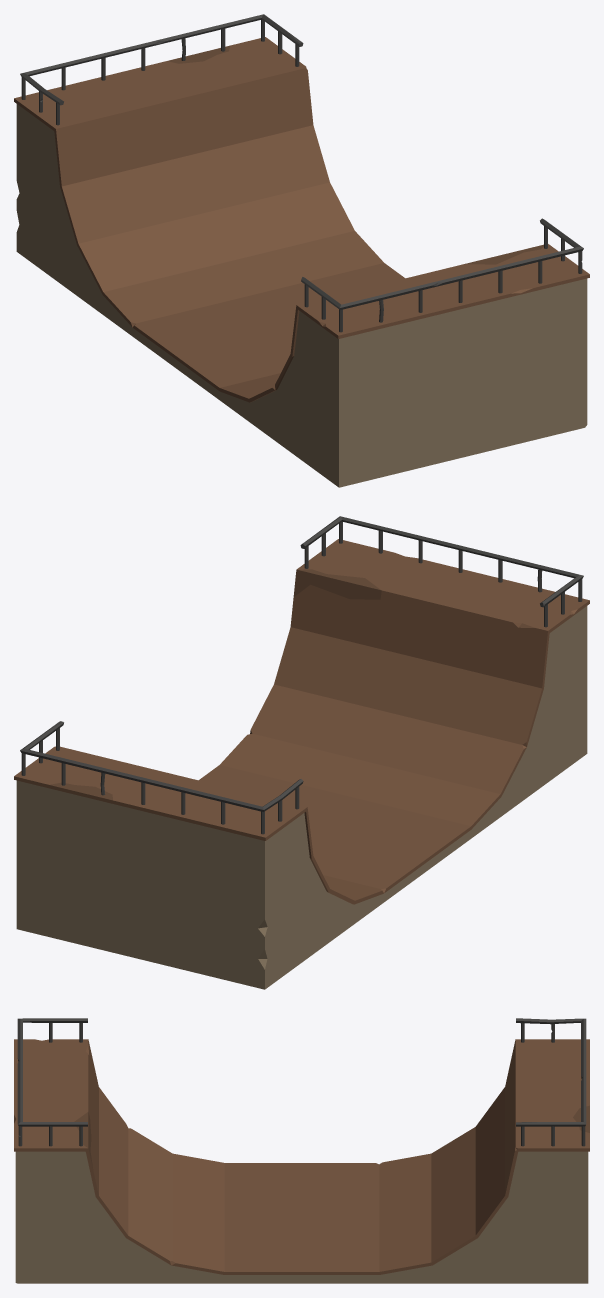
File: SM_Props_City_PlayGround_Skatepark_Wood_HalfPipe.fbx
3 views of the same model, one above another, from view 1: azimuth 30°, elevation 25°; view 2: azimuth 150°, elevation 25°; view 3: azimuth 270°, elevation 25° (orthographic). The views are drawn at different scales.
Visible parts, largest first — view 1: SM_Props_City_PlayGround_Skatepark_Wood_HalfPipe; view 2: SM_Props_City_PlayGround_Skatepark_Wood_HalfPipe; view 3: SM_Props_City_PlayGround_Skatepark_Wood_HalfPipe.
Boxes of the visible parts, bbox=[...] form: SM_Props_City_PlayGround_Skatepark_Wood_HalfPipe: bbox=[14, 14, 589, 487]; SM_Props_City_PlayGround_Skatepark_Wood_HalfPipe: bbox=[14, 516, 589, 989]; SM_Props_City_PlayGround_Skatepark_Wood_HalfPipe: bbox=[14, 1018, 589, 1283].
Bounding box in the file's own units: 568 × 389 × 1268.
